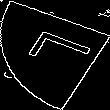L_SE: (16, 30, 94, 80)
